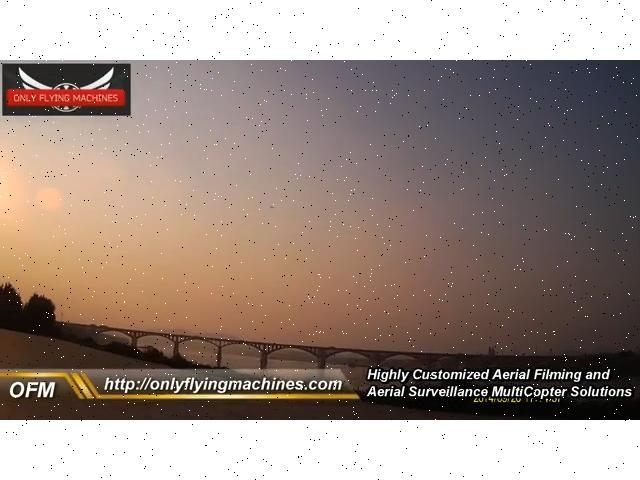Anti-Drone: (261, 197, 287, 220)
